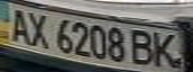0: (87, 22, 109, 61)
2: (66, 19, 90, 57)
6: (48, 16, 75, 55)
8: (106, 25, 130, 64)
A: (3, 6, 33, 44)
B: (127, 28, 160, 66)
K: (148, 30, 184, 70)
X: (21, 10, 54, 48)
